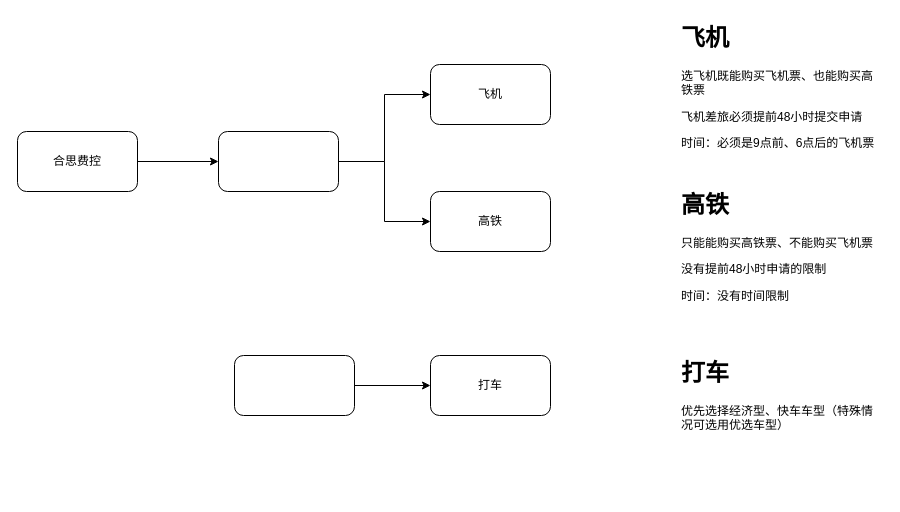
Some shapes in this 900 by 512 pixel diagram are drawn without their labels. The centre of each missing label's shape, as x and y in pixels:
"差旅申请单" goes at point 278,161.
"高德打车企业版" goes at point 294,385.
